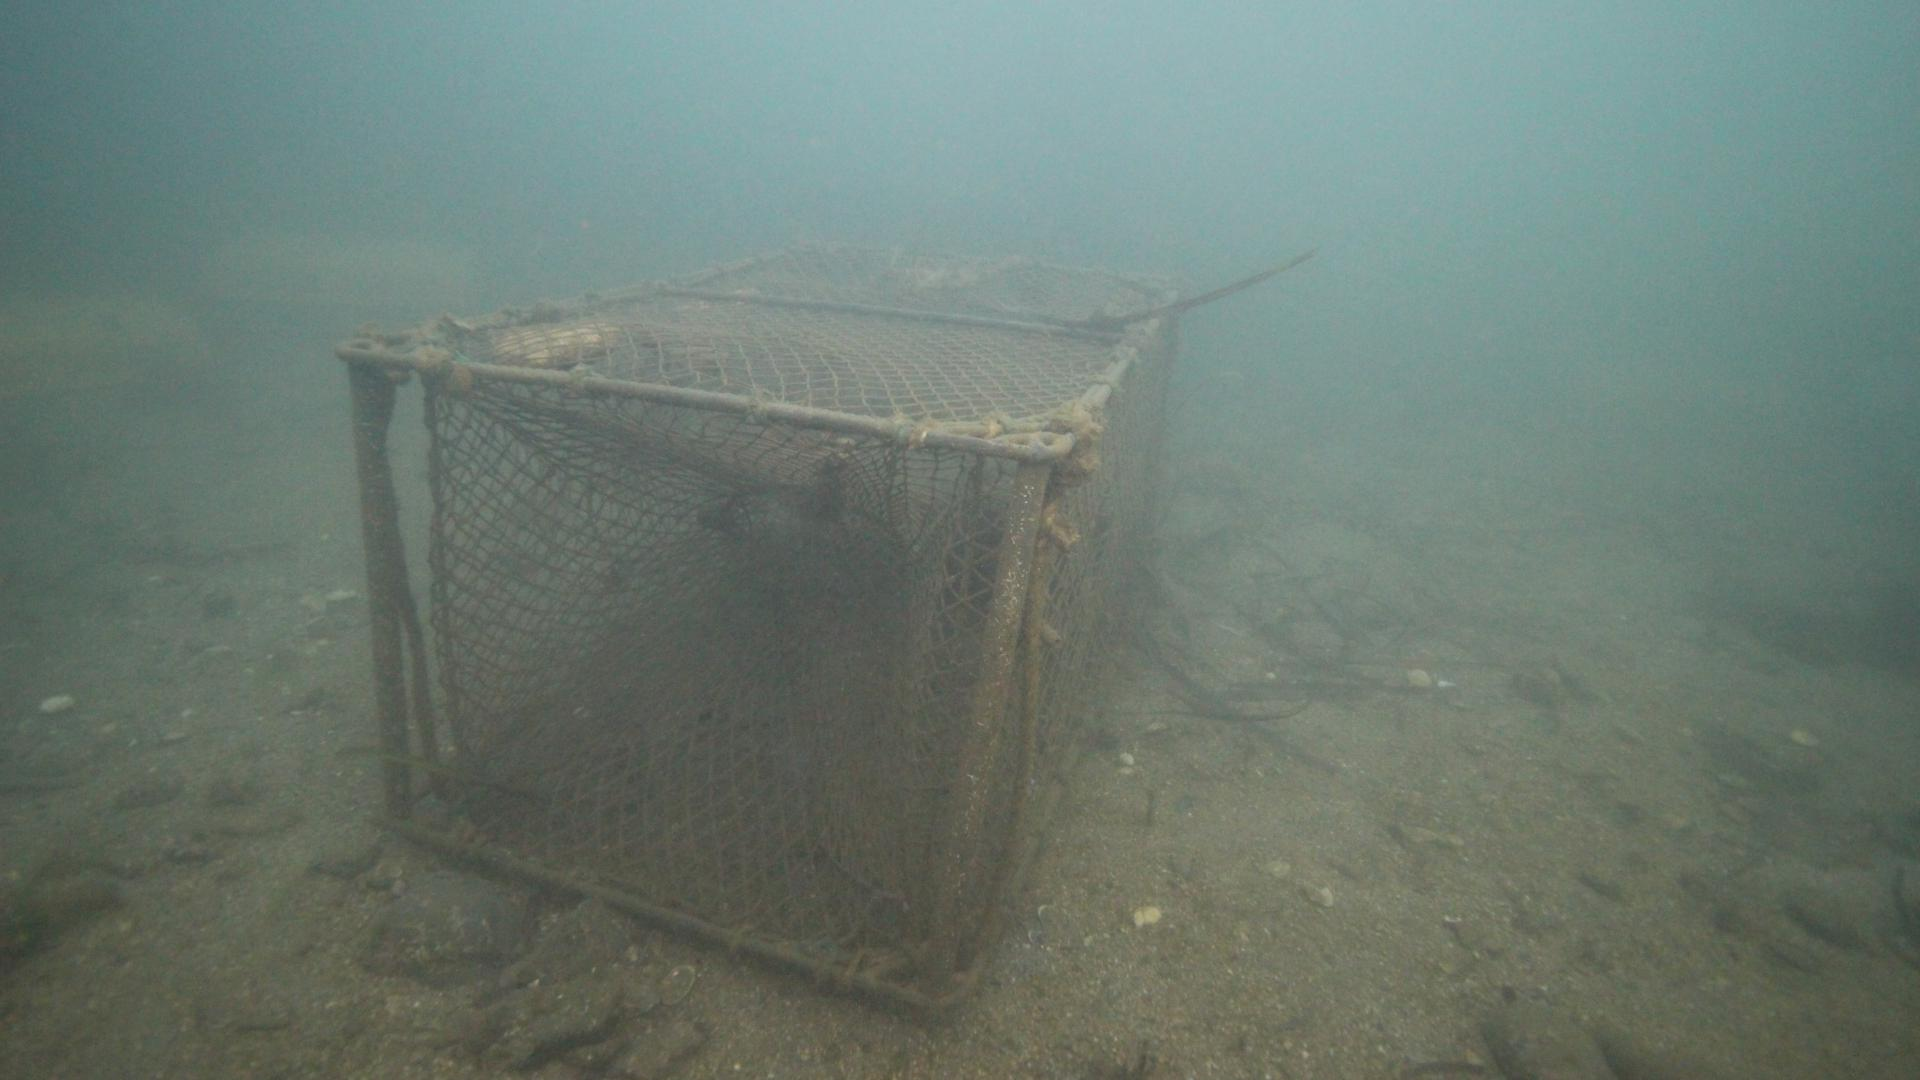rectangular fish trap: (328, 235, 1195, 1015)
